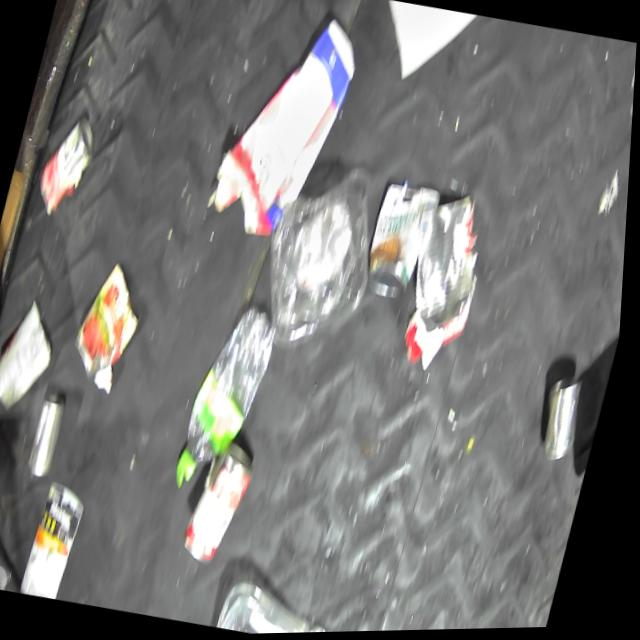can: (360, 181, 438, 302), (190, 443, 260, 568), (536, 370, 597, 471), (37, 116, 94, 217), (31, 400, 70, 478)
plastic_bottle: (179, 308, 281, 493)
